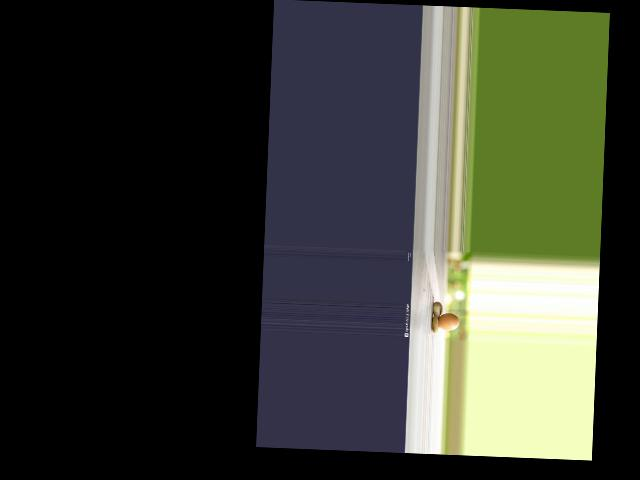egg: (437, 312, 459, 330)
